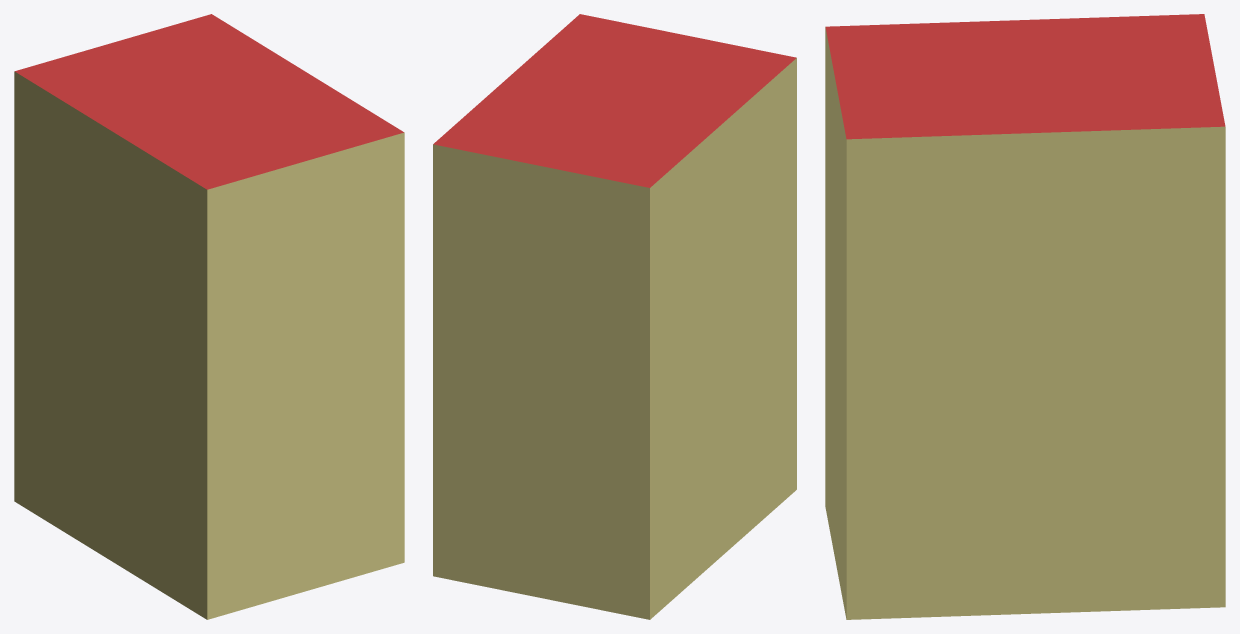
3 renders of one model, left to right at view 1: azimuth 30°, elevation 25°; view 2: azimuth 150°, elevation 25°; view 3: azimuth 270°, elevation 25°, orthographic. The views are drawn at different scales.
Size of the model in its own units: 3.99 by 5.39 by 7.14.
